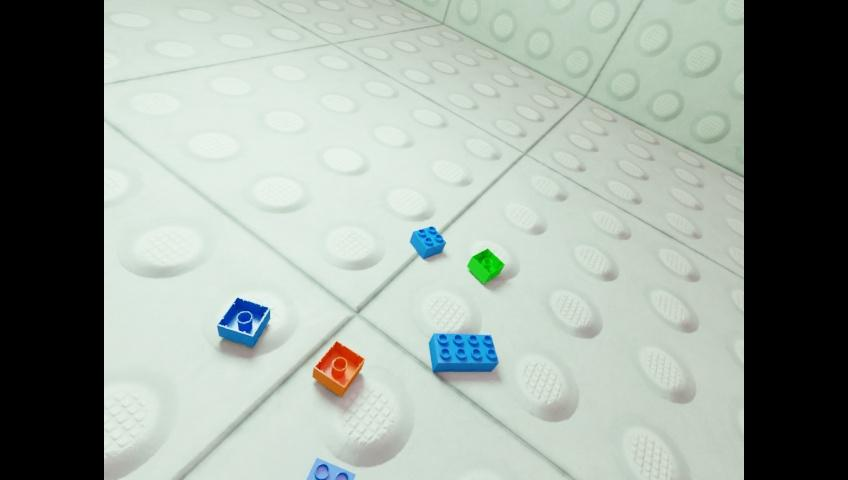2x2_blue: (216, 296, 269, 346), (305, 456, 355, 480), (409, 225, 445, 258)
2x2_green: (466, 247, 504, 283)
2x2_orange: (312, 339, 364, 396)
4x2_blue: (428, 332, 498, 371)
